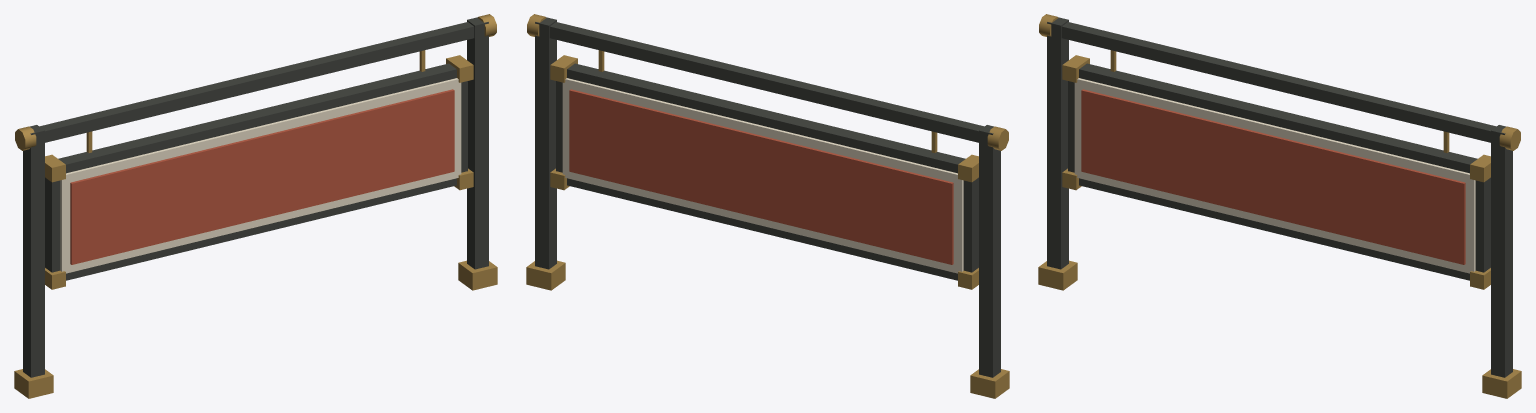
File: sign_post_3.glb
The picture shows the model from 3 angles, left to right: view 1: azimuth 30°, elevation 25°; view 2: azimuth 150°, elevation 25°; view 3: azimuth 330°, elevation 25°; orthographic projection.
Visible parts, largest first — view 1: sign_post_3; view 2: sign_post_3; view 3: sign_post_3.
Boxes of the visible parts, x1,y1,x2,y2 form: sign_post_3: (14,14,497,398); sign_post_3: (526,14,1009,398); sign_post_3: (1038,14,1521,398).
Size of the model in its own units: 3.4 by 1.81 by 0.18.
